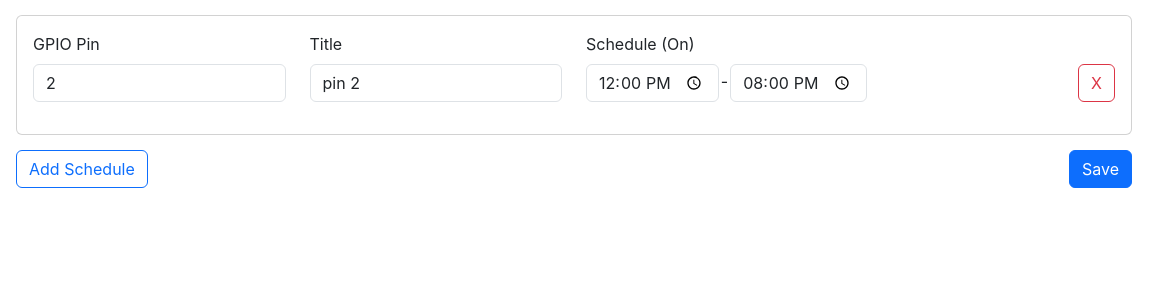
Test: when saving › validation error when incorrect title
The image size is (1149, 293).
Clear the field with test id "pin-title-input" at (436, 83), box [310,64,562,102]
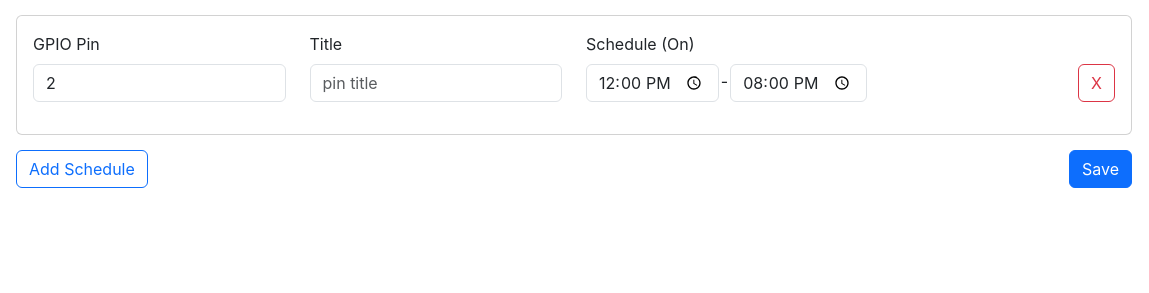
Click the button with test id "save-button" at (1100, 169), box [1069,150,1132,188]
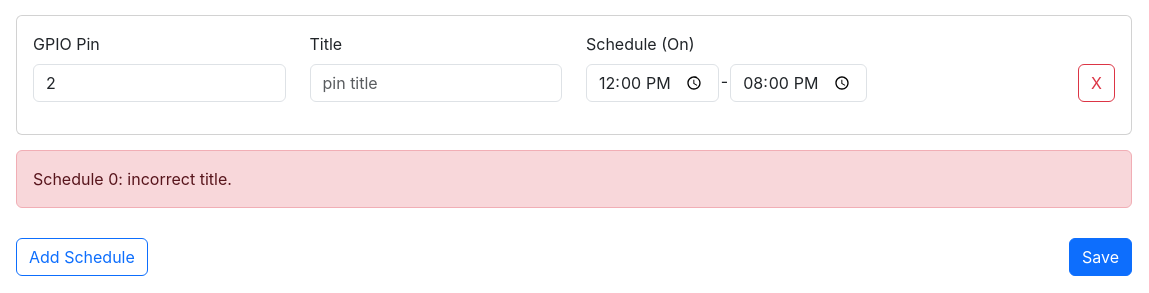
Now the message with test id "pin-config-validation-error" shows "incorrect title", box [33,169,232,189]
